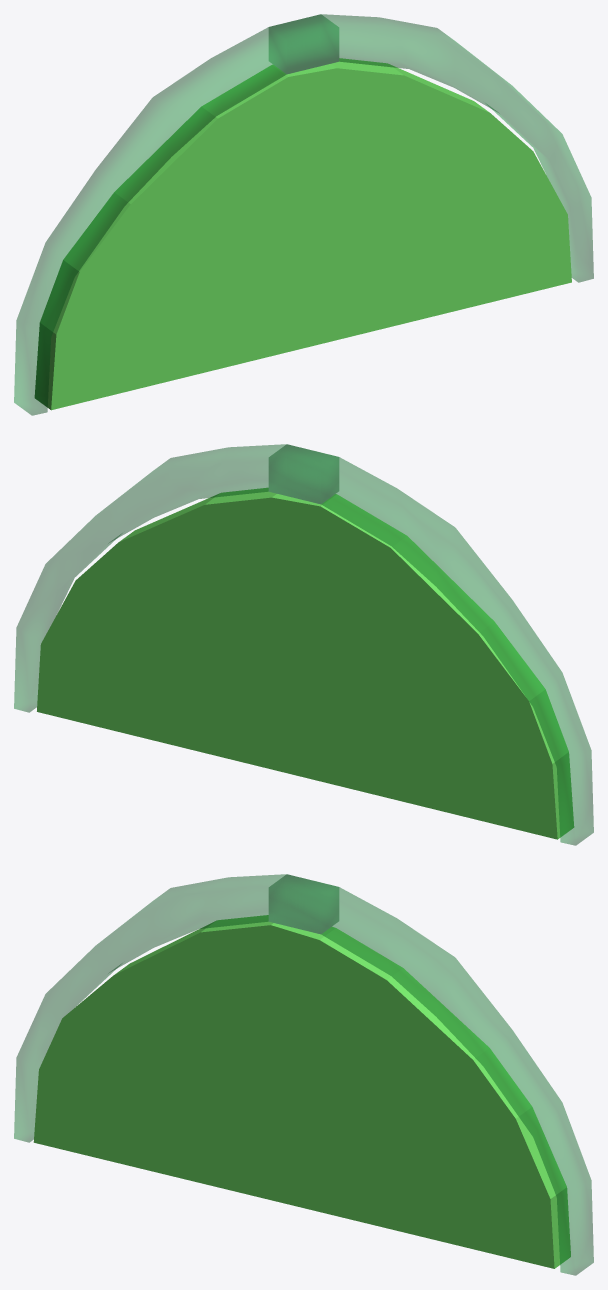
File: Checkpoint.fbx
3 renders of one model, top to bottom at view 1: azimuth 30°, elevation 25°; view 2: azimuth 150°, elevation 25°; view 3: azimuth 330°, elevation 25°, orthographic.
Visible parts, largest first — view 1: Cube; view 2: Cube; view 3: Cube.
Boxes of the visible parts, left/top/right/bottom form: Cube: left=14, top=14, right=593, bottom=415; Cube: left=14, top=444, right=593, bottom=845; Cube: left=14, top=874, right=593, bottom=1275.
Bounding box in the file's own units: 2057 × 1098 × 115.
